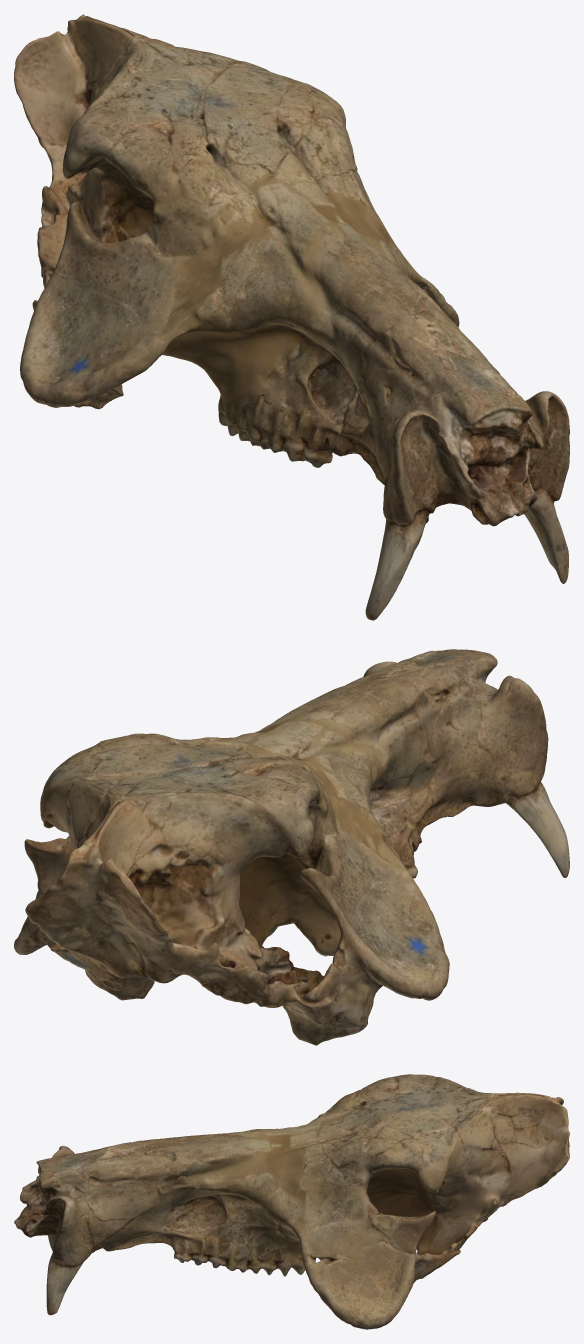
3 renders of one model, top to bottom at view 1: azimuth 30°, elevation 25°; view 2: azimuth 150°, elevation 25°; view 3: azimuth 270°, elevation 25°, orthographic. The views are drawn at different scales.
Parts seen in each view (by area): view 1: orientacao; view 2: orientacao; view 3: orientacao.
Part boxes in pixels (x1,y1,x2,y2): orientacao: (14,14,569,620); orientacao: (14,649,569,1045); orientacao: (14,1074,569,1329).
Bounding box in the file's own units: 6739 × 4769 × 12225.
Materials: 1 (1 with a texture image).
